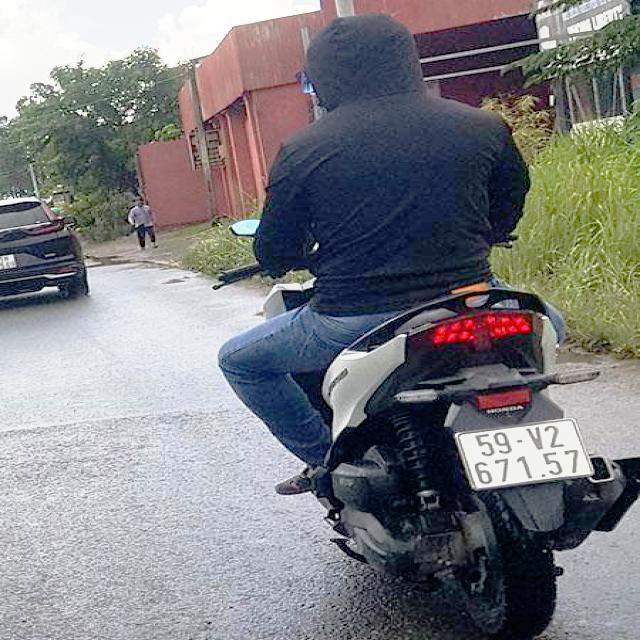license_plate: (453, 417, 601, 493)
